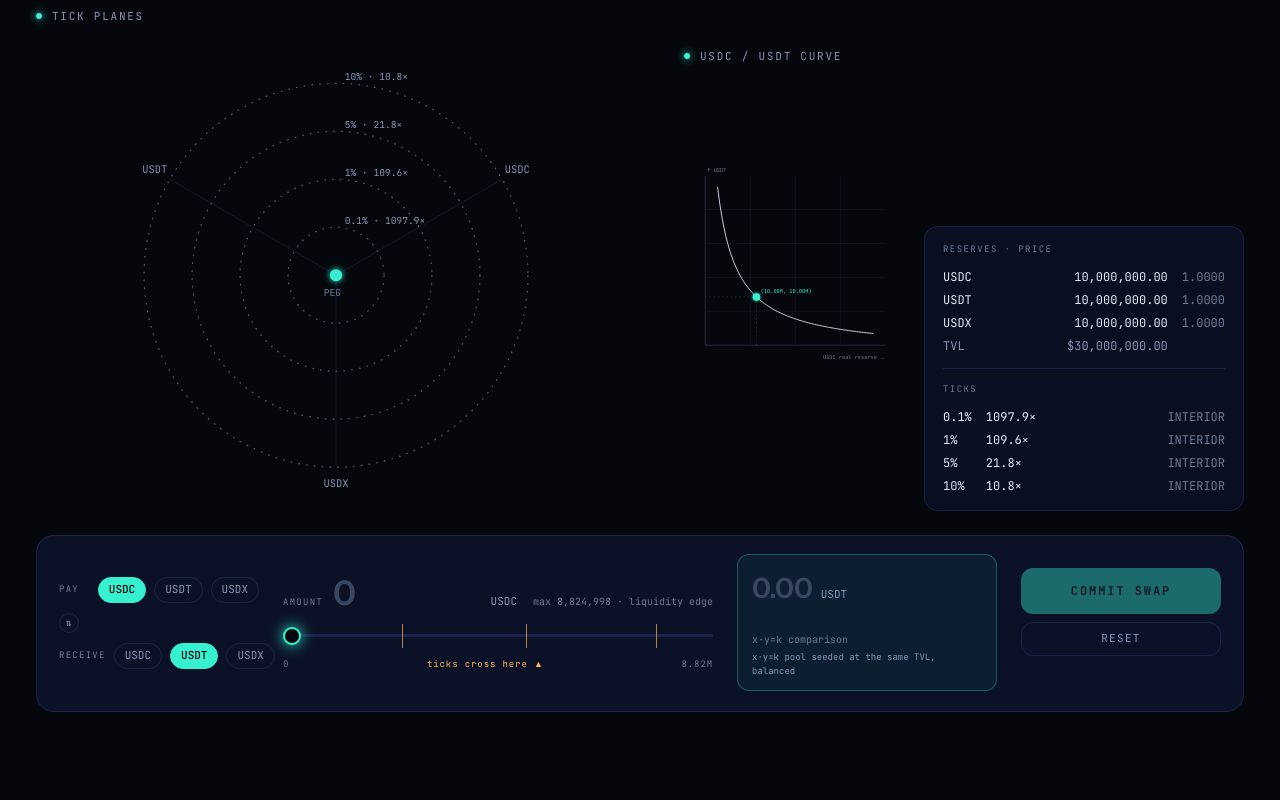
Test: PoolView › previews live, then commits
Expected: the text "$30,000,000.00" is shown, [1067,338,1168,354]
Type "6000000" into the field named "amount in" at (407, 594), box [333,574,481,614]
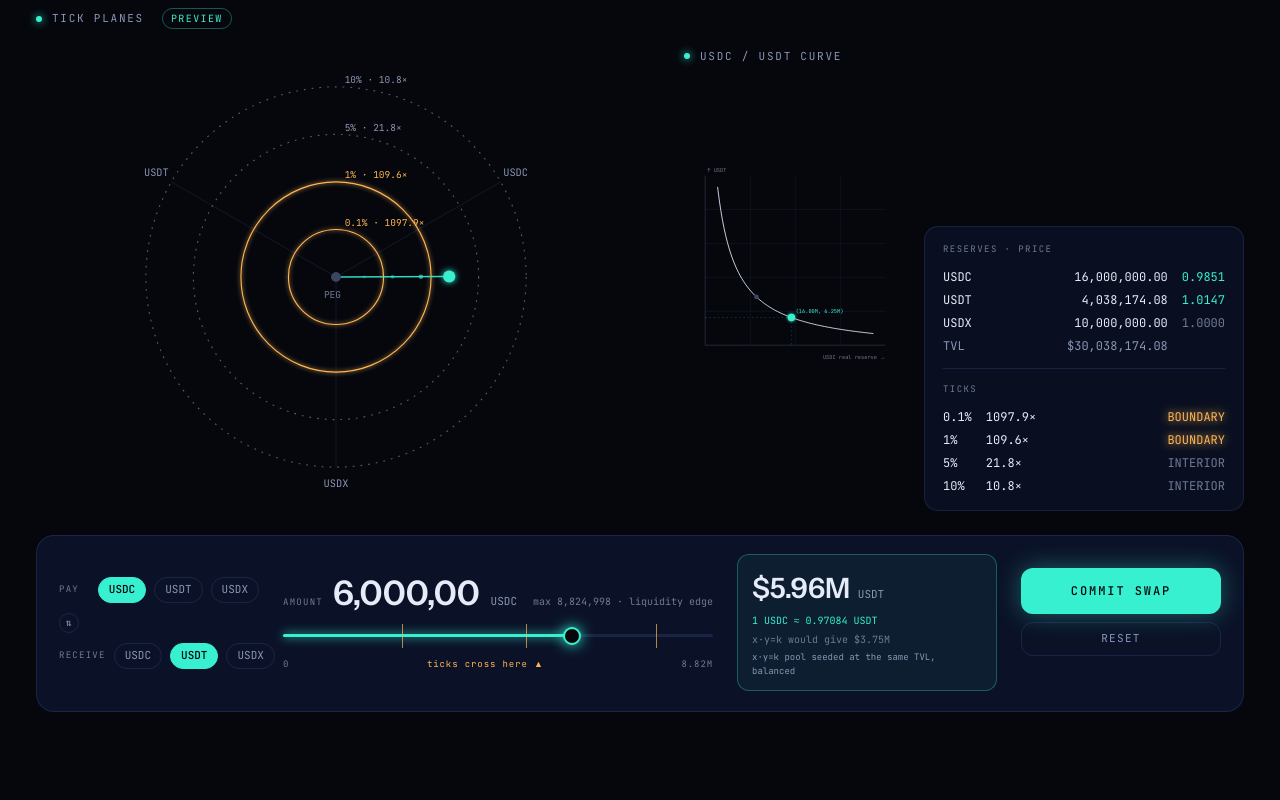
Now the 1st text "BOUNDARY" is shown, box [1167,409,1225,425]
Now the text with test id "quote-out" shows "$", box [752,567,850,609]
Now the text "PREVIEW" is shown, box [162,8,232,29]
Click the button "COMMIT SWAP" at (1121, 590), box [1021,568,1221,614]
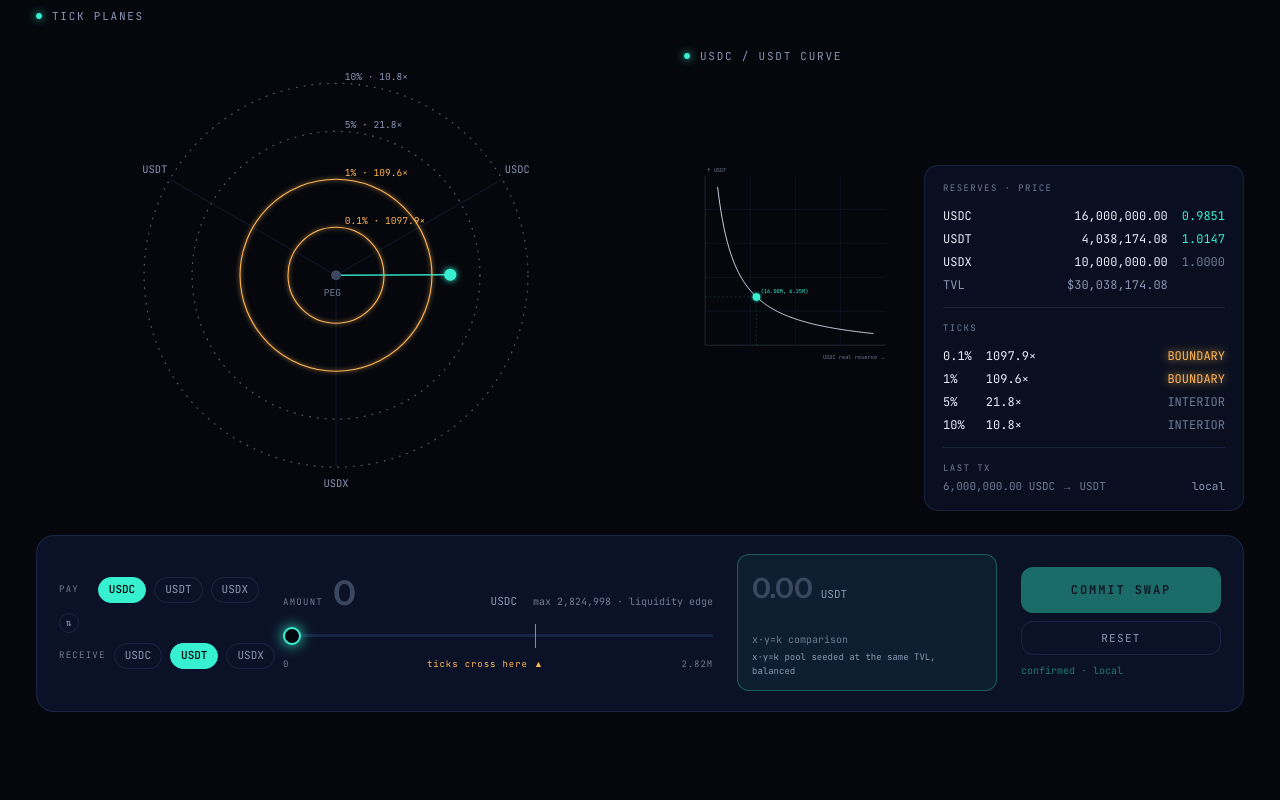
Now the 1st text "BOUNDARY" is shown, box [1167,348,1225,364]
Now the text with test id "preview-badge" is gone
Now the field named "amount in" is empty, box [333,574,481,614]
Click the button "RESET" at (1121, 638), box [1021,621,1221,655]
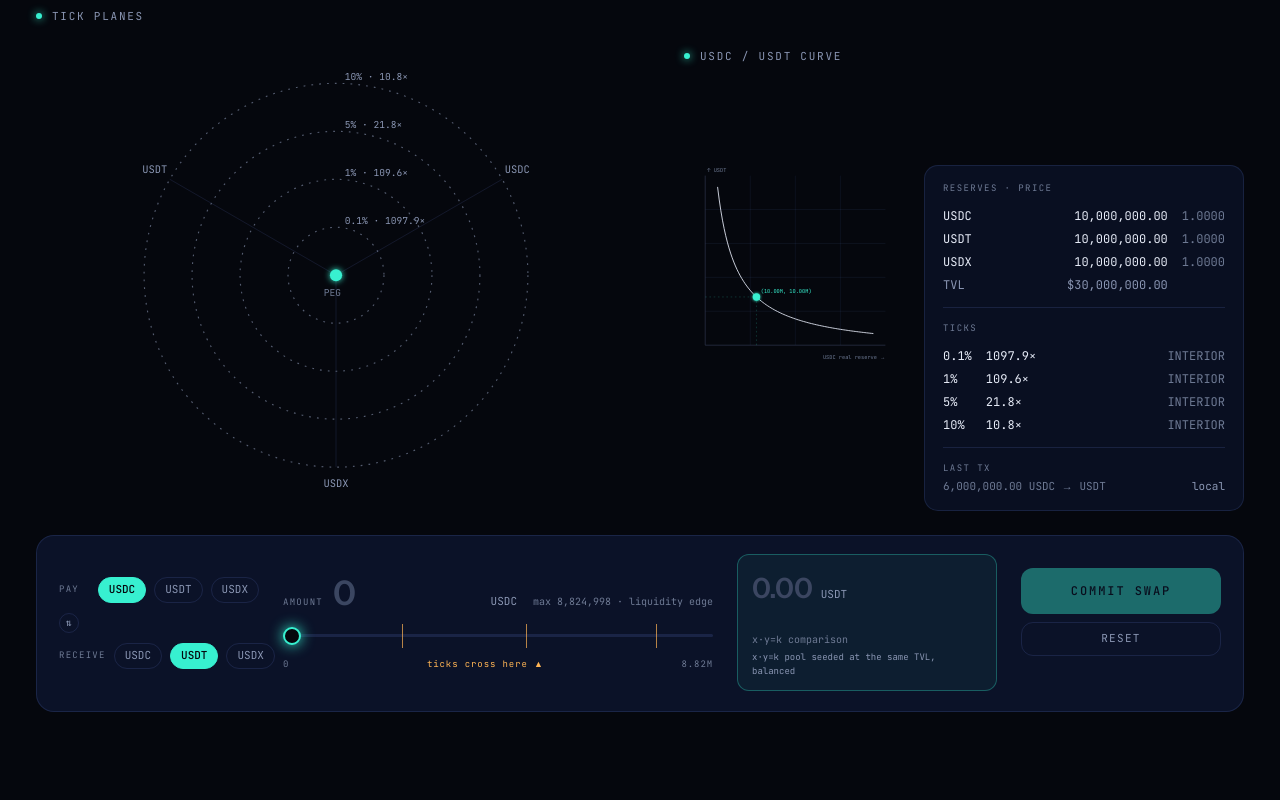
Now the text "BOUNDARY" is not shown
